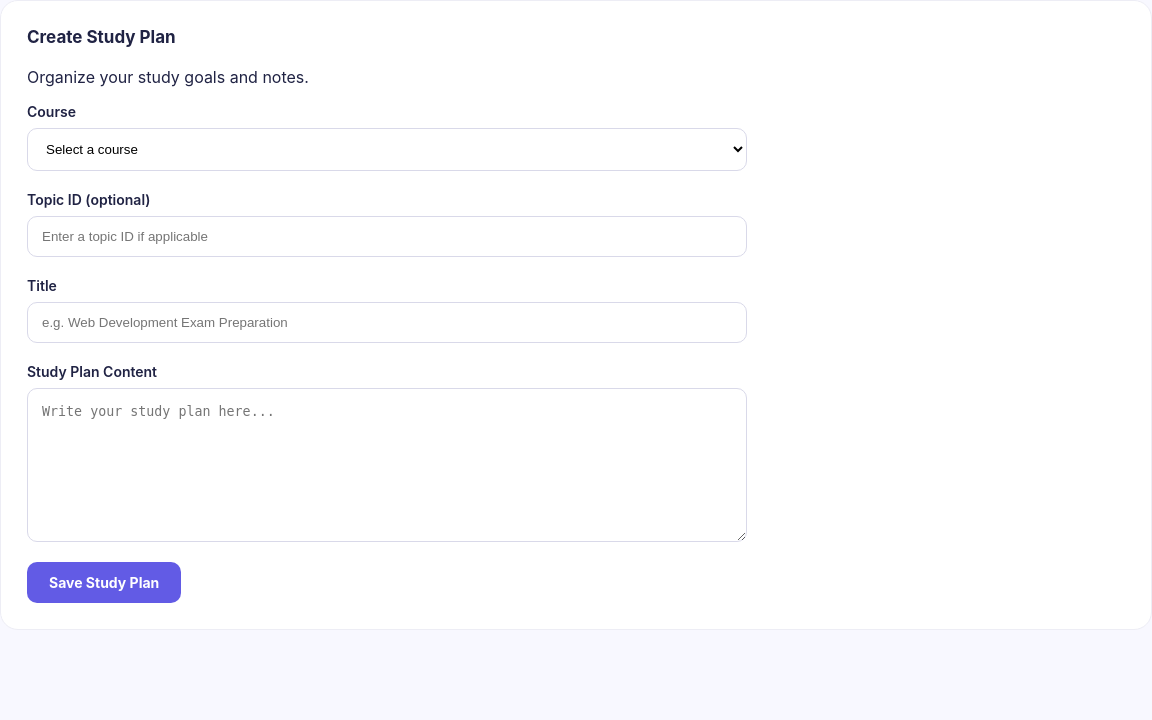
Test: StudyPlanForm › submits a valid study plan and resets the form
The width and height of the screenshot is (1152, 720).
Select "Web Development" in the dropdown labelled "Course" at (387, 150), box x1=27 y1=128 x2=747 y2=171
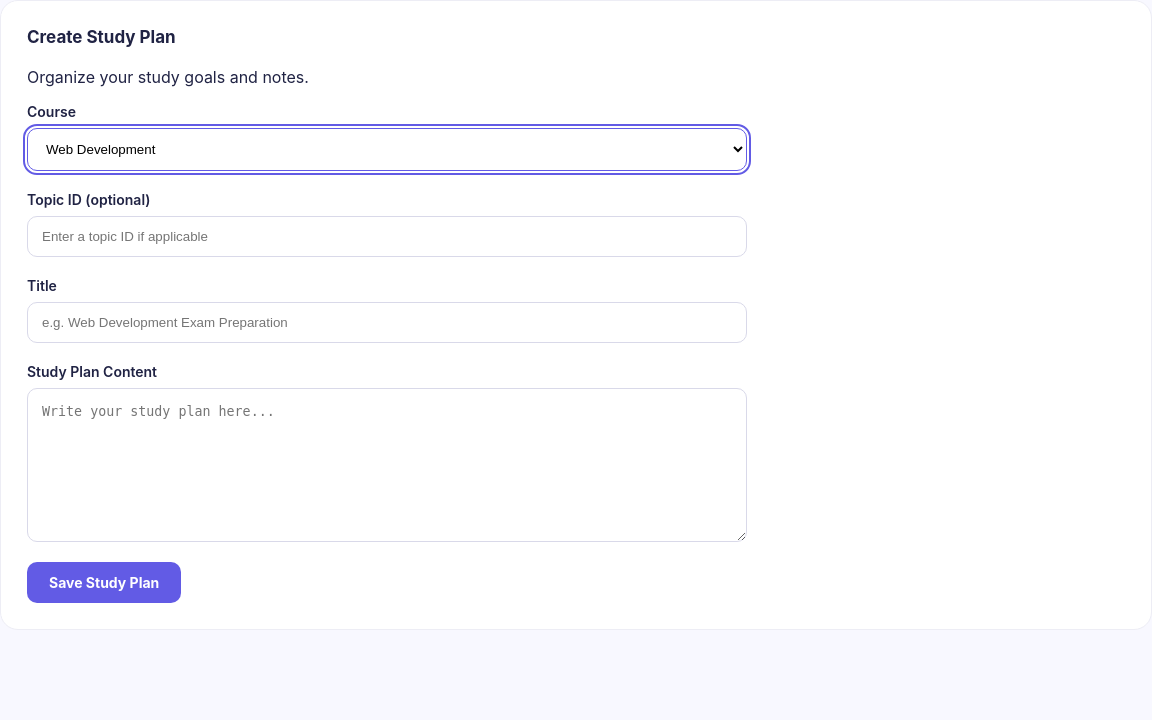
Type "Exam Preparation" into the field labelled "Title" at (387, 322), box x1=27 y1=302 x2=747 y2=343
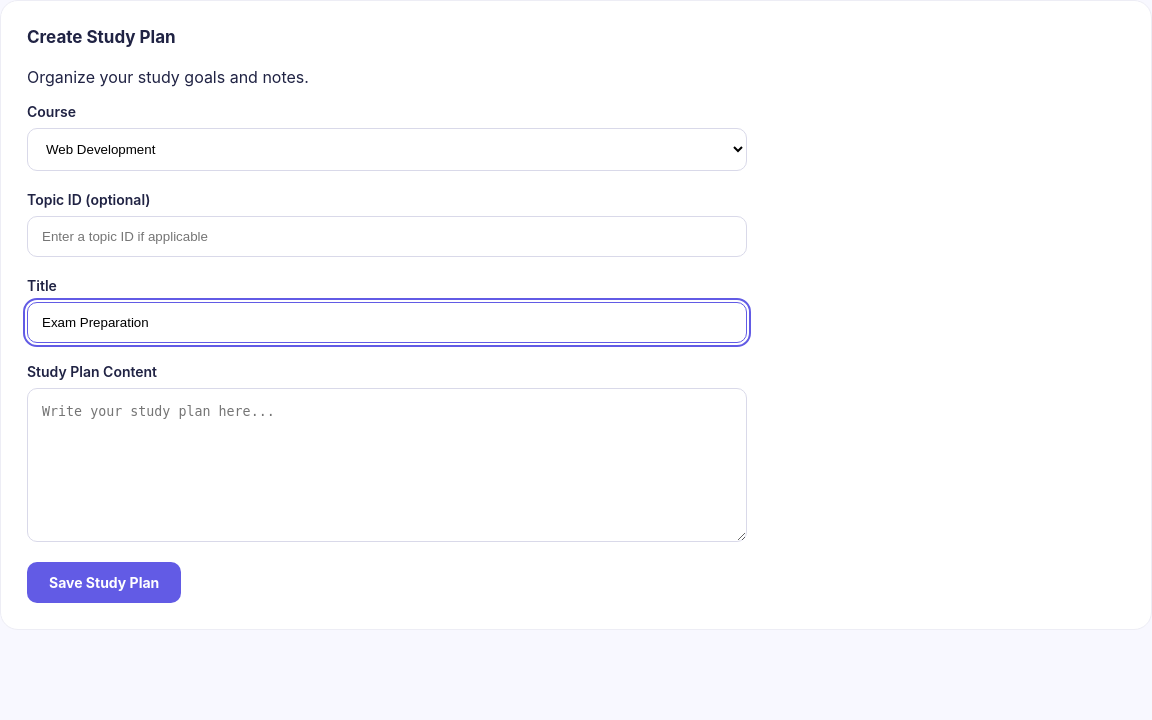
Type "Review React and Express" into the text box labelled "Study Plan Content" at (387, 465), box x1=27 y1=388 x2=747 y2=542
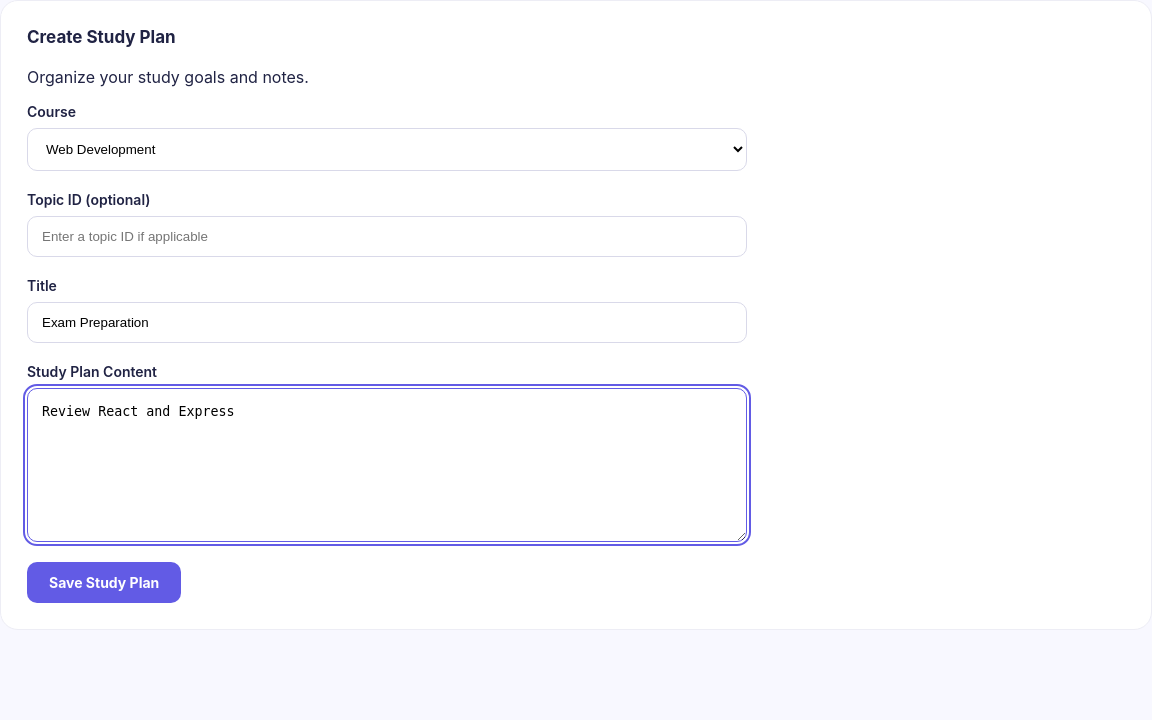
Click the button "Save Study Plan" at (104, 582), box x1=27 y1=562 x2=181 y2=603
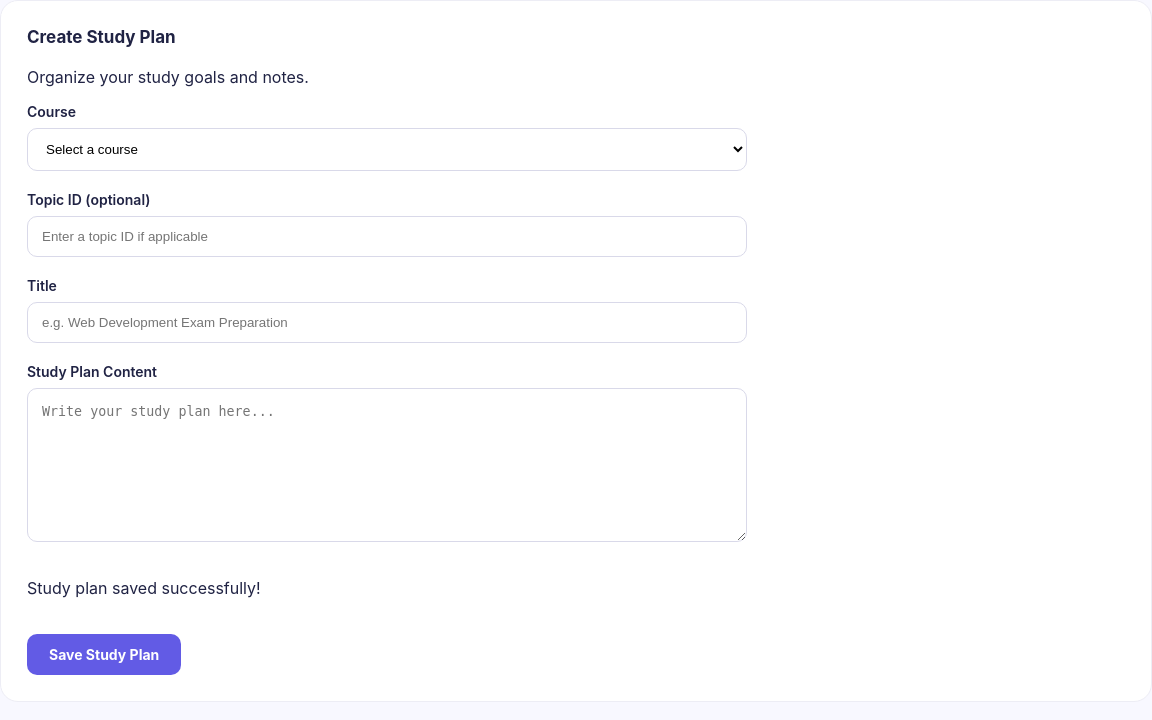
Result: the text "Study plan saved successfully!" is shown at x1=27 y1=578 x2=261 y2=598
Result: the field labelled "Title" is empty at x1=27 y1=302 x2=747 y2=343
Result: the text box labelled "Study Plan Content" is empty at x1=27 y1=388 x2=747 y2=542
